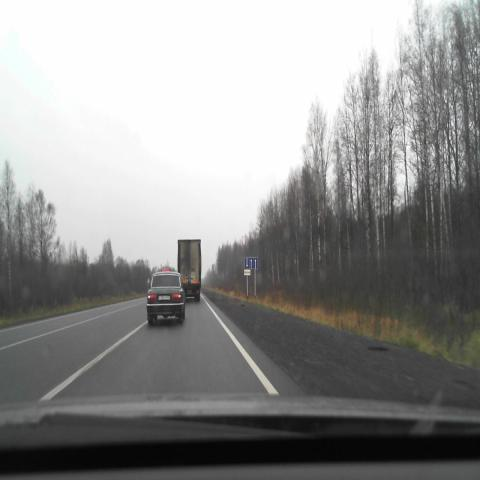5_15_7: (244, 257, 258, 269)
